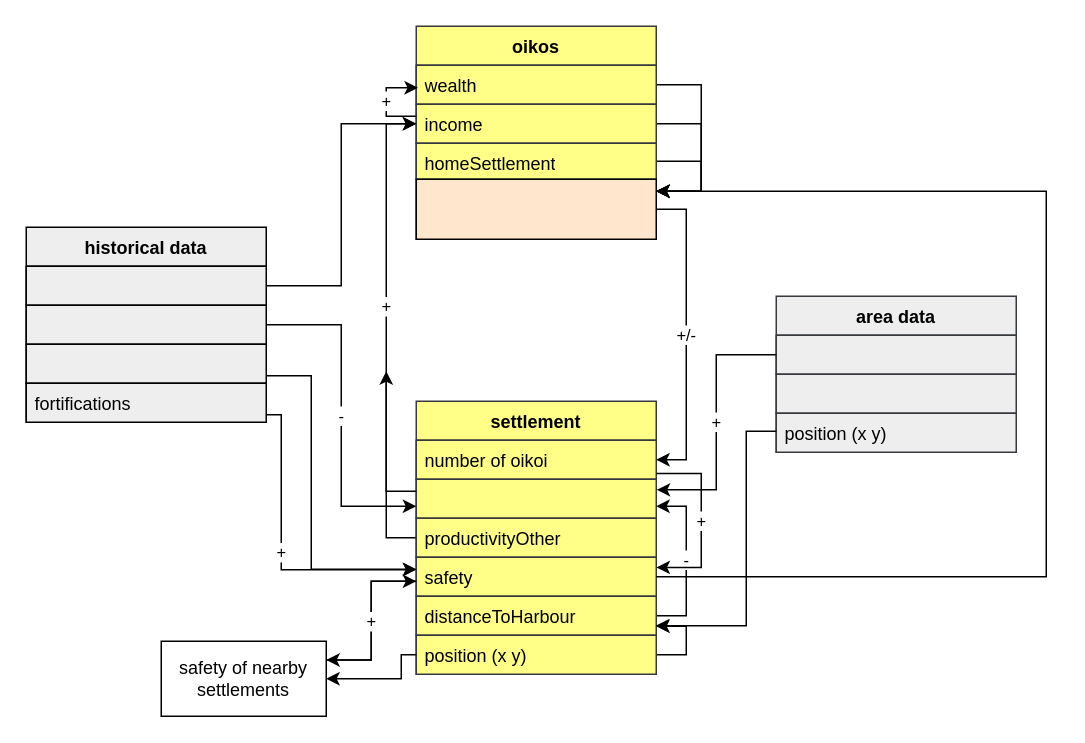
This 1085x743 diagram has some shape labels left out. The shapes that lost their labels are listed below. From the top down, each one's centre as x and y in pixels, then its label:
At (535,208): "behaviour: move to different settlement".
At (145,285): "global wheat price".
At (145,324): "climate".
At (145,363): "external threat".
At (895,354): "fertility".
At (895,393): "elevation".
At (535,498): "productivityFood".
